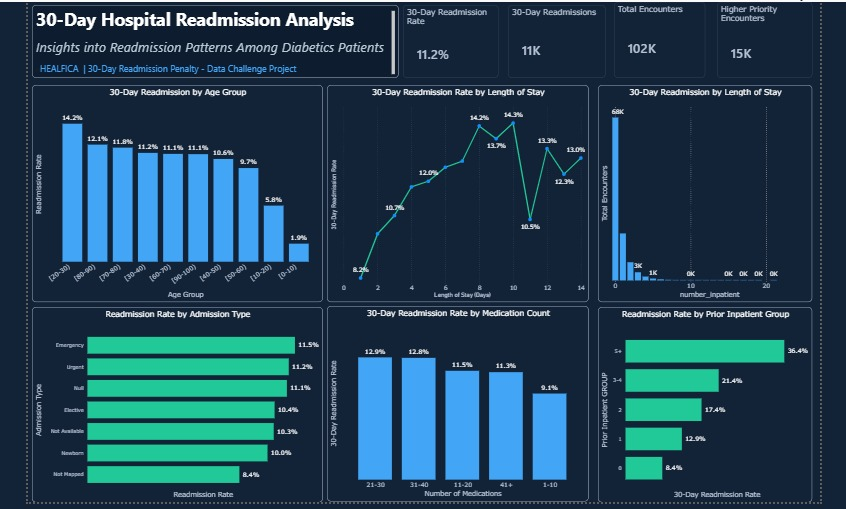

The page's visual inventory and layout, read from the dashboard file:
{"tool":"powerbi","page":{"name":"Dashboard","canvas":[1900,1200],"ordinal":0},"visuals":[{"type":"cardVisual","title":"30-Day Readmission Rate","fields":{"Data":["Diabetic_Encounter_Cleaned (2).30-Day Readmission Rate"]},"box":[900.1,7.5,229.4,174.5],"z":0},{"type":"cardVisual","title":"30-Day Readmissions","fields":{"Data":["Diabetic_Encounter_Cleaned (2).30-Day Readmissions"]},"box":[1152,7.5,234.4,174.5],"z":1000},{"type":"cardVisual","title":"Total Encounters","fields":{"Data":["Diabetic_Encounter_Cleaned (2).Total Encounters"]},"box":[1406.3,0,219.4,182],"z":2000},{"type":"clusteredColumnChart","title":"30-Day Readmission by Age Group","fields":{"Category":["Diabetic_Encounter_Cleaned (2).age"],"Y":["Diabetic_Encounter_Cleaned (2).30-Day Readmission Rate"]},"box":[10,199.5,698.2,521.1],"z":3000},{"type":"clusteredBarChart","title":"Readmission Rate by Admission Type","fields":{"Category":["Diabetic_Encounter_Cleaned (2).Admission_Type_Description"],"Y":["Diabetic_Encounter_Cleaned (2).30-Day Readmission Rate"]},"box":[10,731,698,469],"z":4000},{"type":"lineChart","title":"30-Day Readmission Rate by Length of Stay","fields":{"Category":["Diabetic_Encounter_Cleaned (2).time_in_hospital"],"Y":["Diabetic_Encounter_Cleaned (2).30-Day Readmission Rate"]},"box":[718.1,199.5,628.3,521.1],"z":5000},{"type":"clusteredColumnChart","title":"30-Day Readmission Rate by Medication Count","fields":{"Y":["Diabetic_Encounter_Cleaned (2).30-Day Readmission Rate"],"Category":["Diabetic_Encounter_Cleaned (2).Medication Count Group"]},"box":[718.1,730.6,628.3,468.8],"z":6000},{"type":"clusteredColumnChart","title":"30-Day Readmission by Length of Stay","fields":{"Category":["Diabetic_Encounter_Cleaned (2).number_inpatient"],"Y":["Diabetic_Encounter_Cleaned (2).Total Encounters"]},"box":[1368.9,199.5,513.6,521.1],"z":7000},{"type":"clusteredBarChart","title":"Readmission Rate by Prior Inpatient Group","fields":{"Category":["Diabetic_Encounter_Cleaned (2).Prior Inpatient GROUP"],"Y":["Diabetic_Encounter_Cleaned (2).30-Day Readmission Rate"]},"box":[1369,731,514,469],"z":8000},{"type":"cardVisual","title":"Higher Priority Encounters","fields":{"Data":["Diabetic_Encounter_Cleaned (2).Higher Priority Encounters"]},"box":[1653.1,0,229.4,182],"z":9000},{"type":"textbox","box":[10,7.5,880.2,174.5],"z":9001}]}

Visuals, with their boxes in screenshot pixels (x1, y1, x2, y2):
"30-Day Readmission Rate" cardVisual: <box>401,12,497,85</box>
"30-Day Readmissions" cardVisual: <box>506,12,604,85</box>
"Total Encounters" cardVisual: <box>612,9,704,85</box>
"30-Day Readmission by Age Group" clusteredColumnChart: <box>28,92,320,310</box>
"Readmission Rate by Admission Type" clusteredBarChart: <box>28,315,320,508</box>
"30-Day Readmission Rate by Length of Stay" lineChart: <box>325,92,587,310</box>
"30-Day Readmission Rate by Medication Count" clusteredColumnChart: <box>325,314,587,508</box>
"30-Day Readmission by Length of Stay" clusteredColumnChart: <box>597,92,812,310</box>
"Readmission Rate by Prior Inpatient Group" clusteredBarChart: <box>597,315,812,508</box>
"Higher Priority Encounters" cardVisual: <box>716,9,812,85</box>
textbox: <box>28,12,397,85</box>
